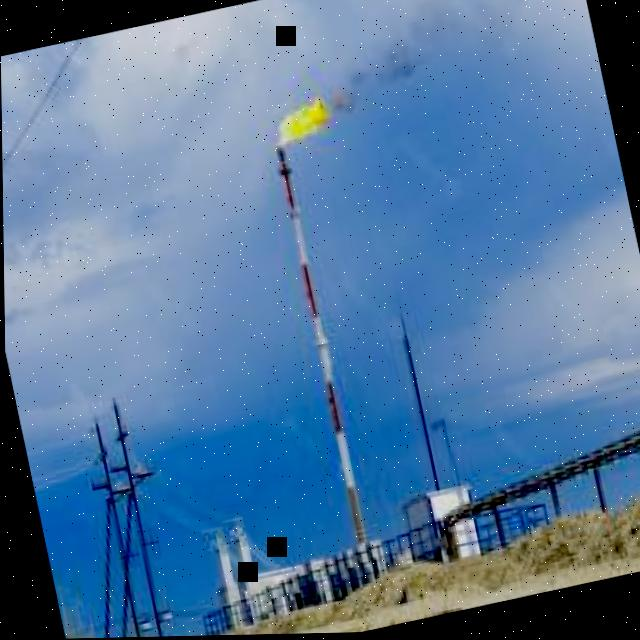fire: (277, 100, 332, 149)
smoke: (328, 0, 463, 118)
